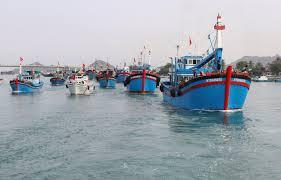Ship: (161, 16, 252, 111), (125, 49, 161, 94), (11, 58, 45, 95), (67, 65, 96, 96), (51, 61, 66, 87), (100, 71, 117, 89)
